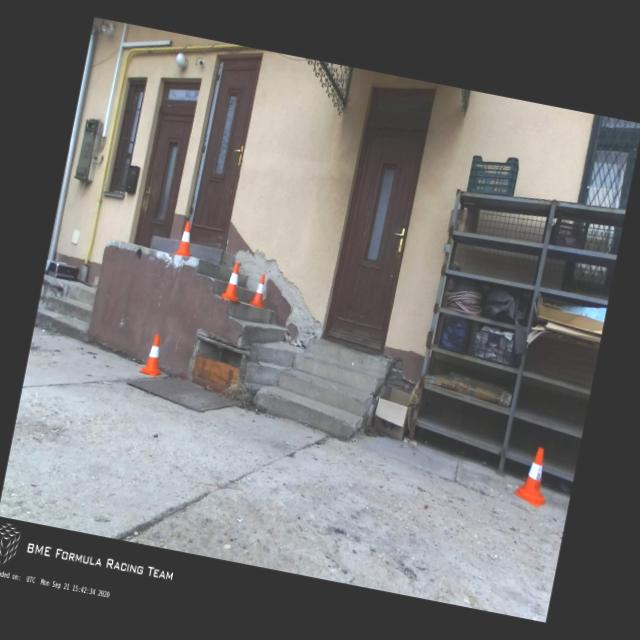orange_cone: (512, 444, 556, 508), (140, 332, 169, 378), (220, 262, 246, 301), (174, 220, 197, 256), (249, 272, 271, 308)
